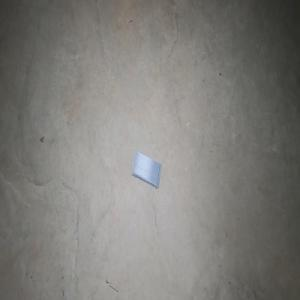PlasticPart: (131, 150, 161, 189)
